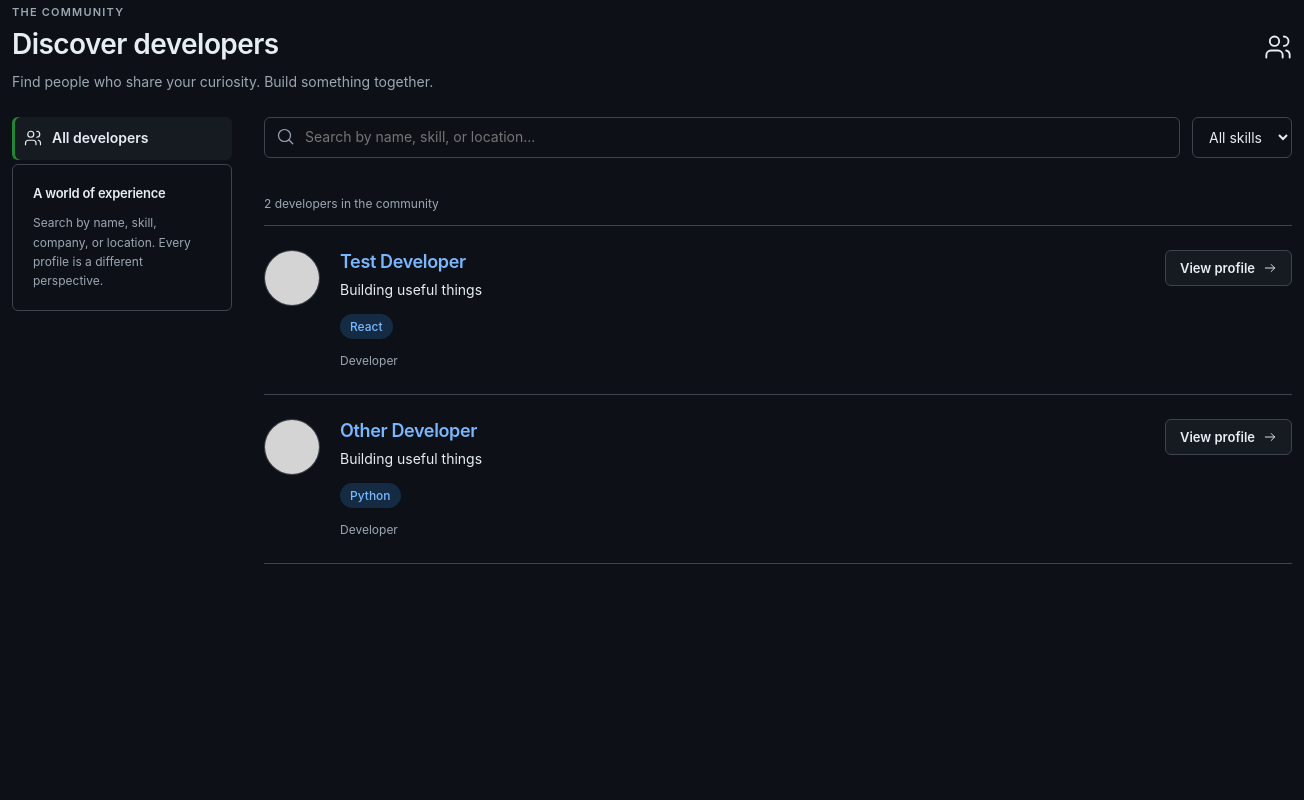
Test: directory filters real returned profiles and displays no-result state
Expected: the text "2 developers in the community" is shown, [264,182,1292,226]
Select "Python" in the dropdown named "Filter by skill" at (1242, 137), box [1192,117,1292,158]
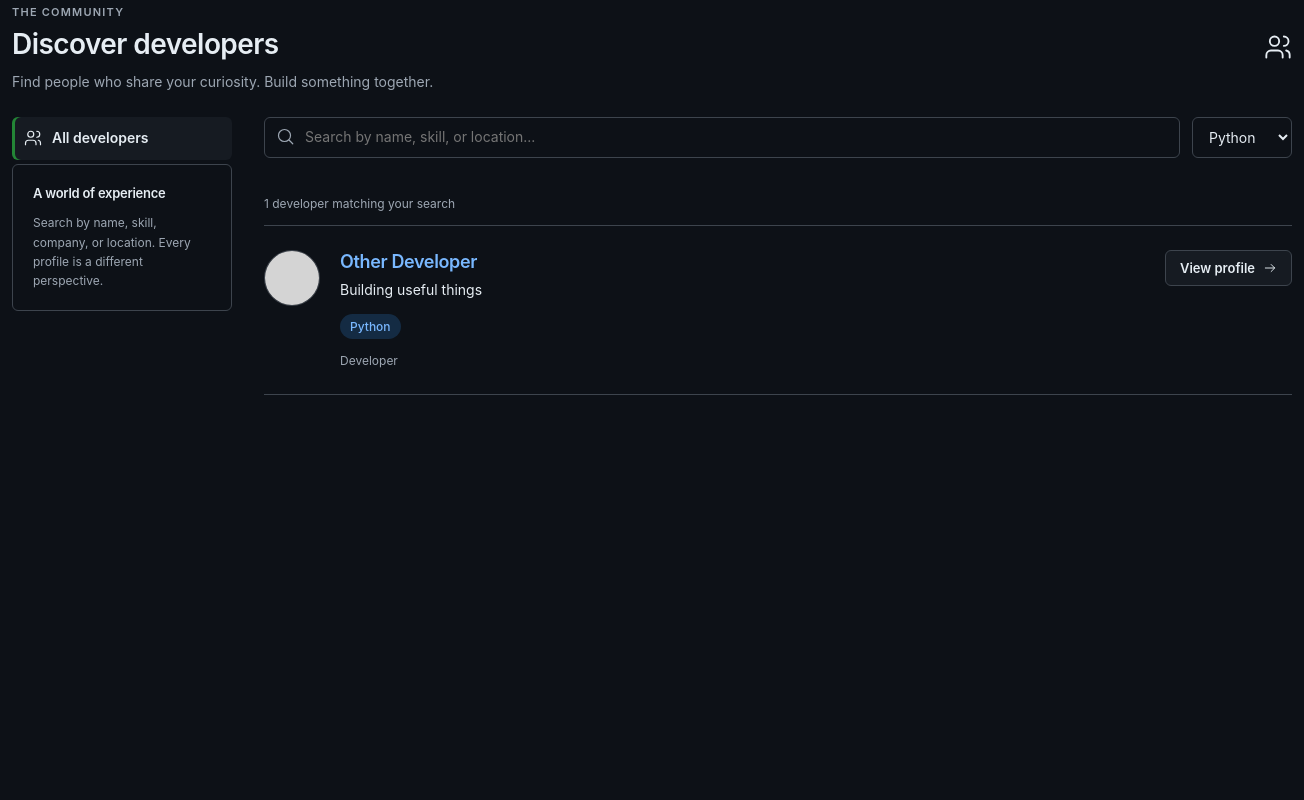
Result: the link "Test Developer" is gone
Type "no-match" into the field named "Filter developers".
click(736, 137); type("no-match")  # box [305,126,1167,149]
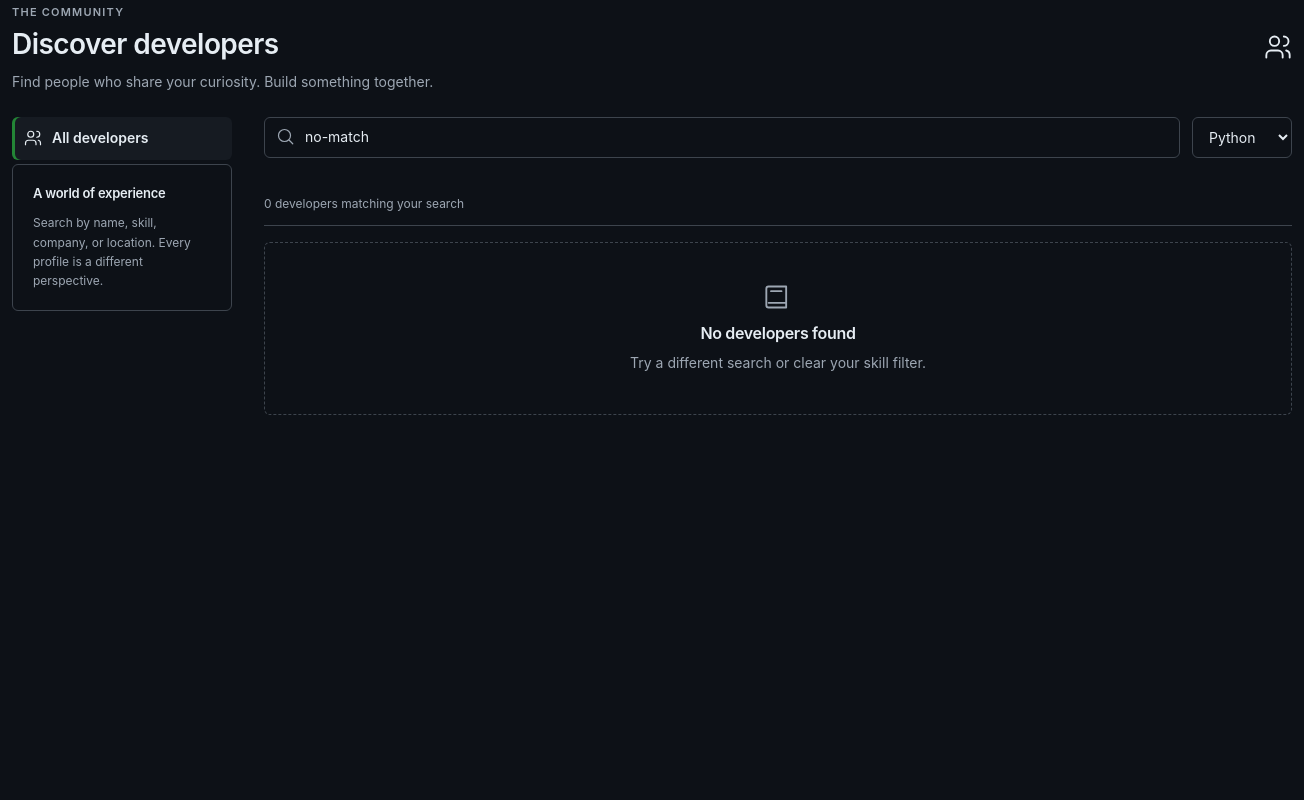
Result: the heading "No developers found" is shown at [700,323,856,343]
